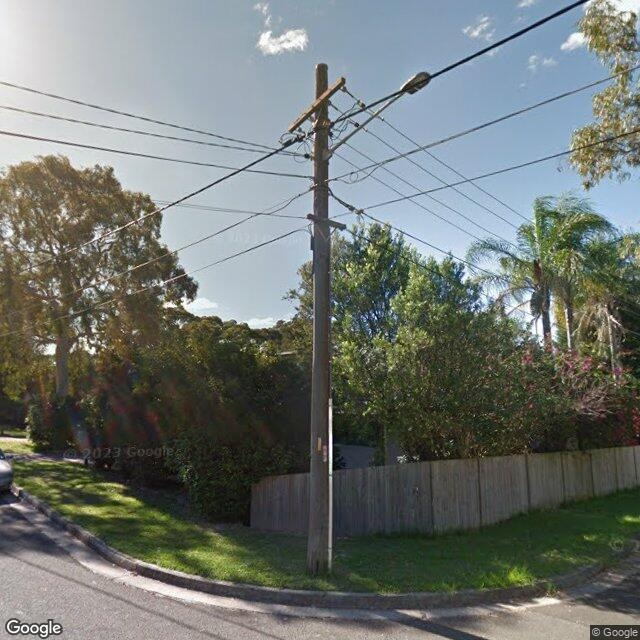crossarm: (287, 76, 347, 134), (307, 212, 347, 232)
streetlight: (325, 71, 429, 161)
timber-pole: (309, 62, 329, 575)
